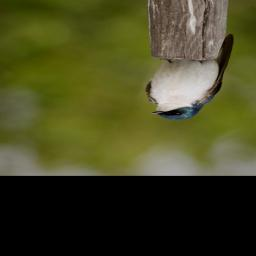Swallow: (142, 33, 235, 124)
